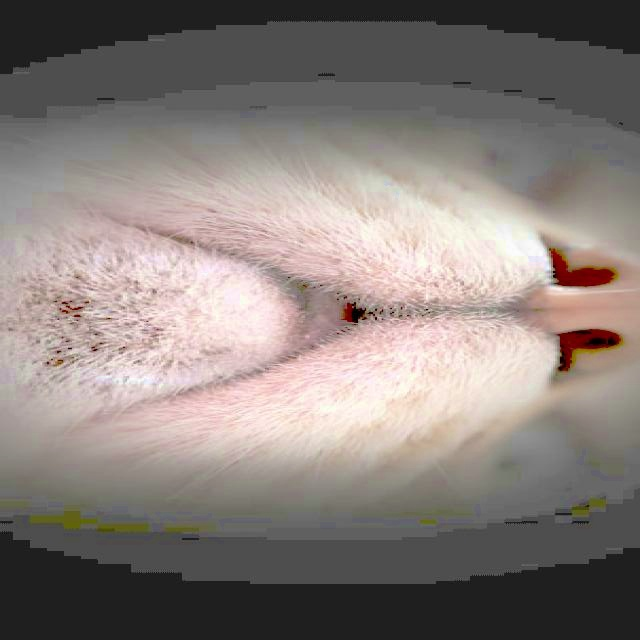acne: (4, 274, 187, 368)
